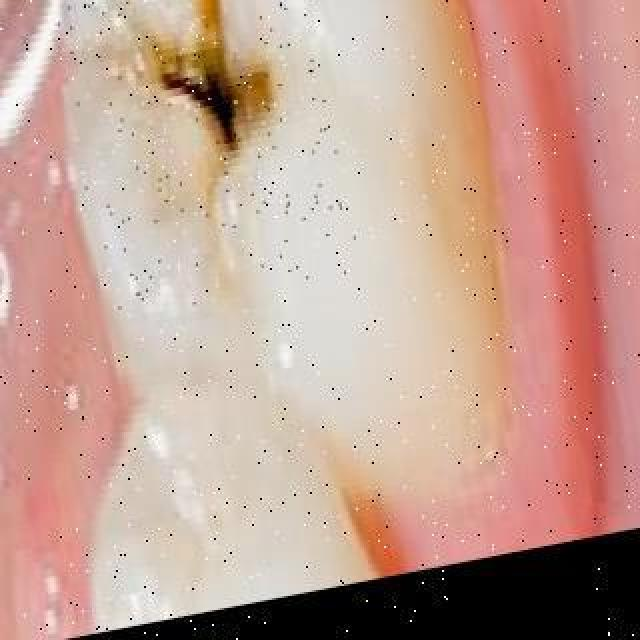cavities: (32, 0, 300, 286)
